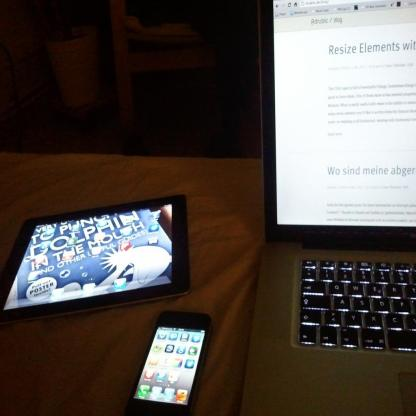board: (240, 0, 415, 415)
